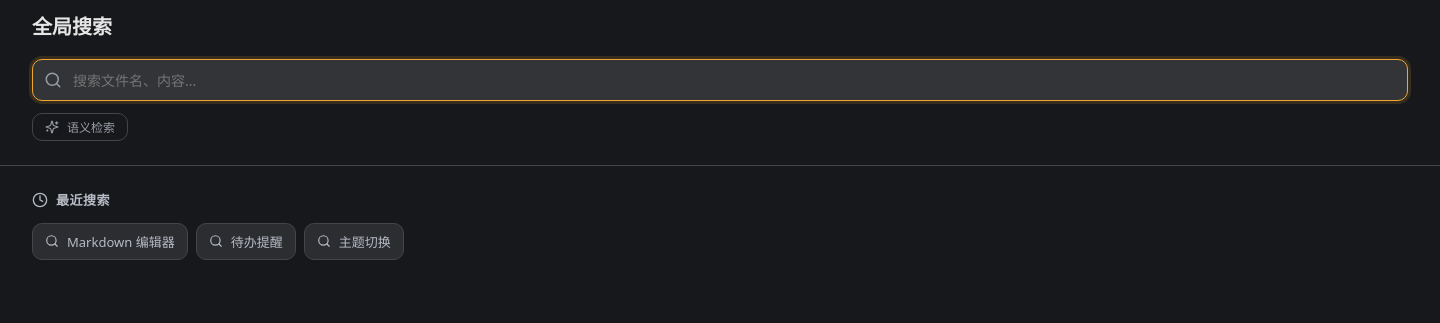
Test: SearchView › store 为空时先恢复当前工作区，再执行搜索
Type "knowledge" into the field with test id "search-input" at (720, 80), box [32, 59, 1408, 101]
Wait 300 ms
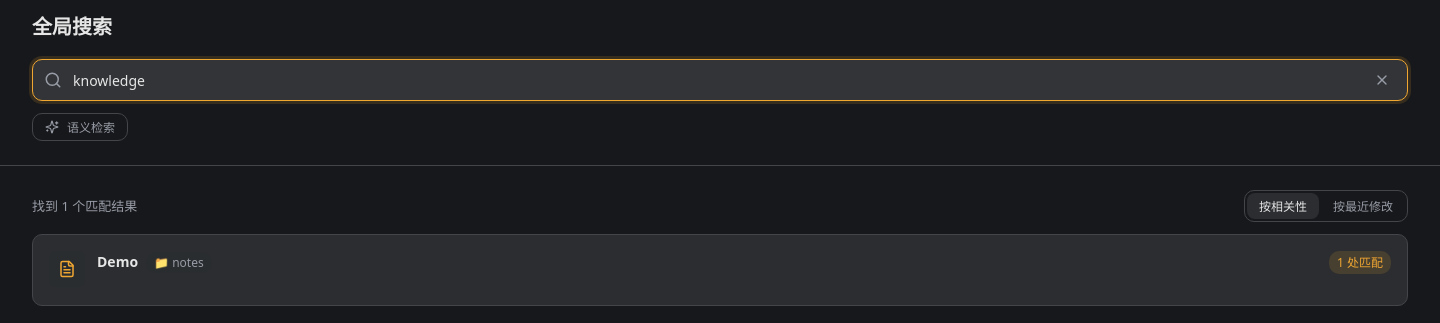
Check: the element with test id "search-result" is shown, box [32, 234, 1408, 306]
